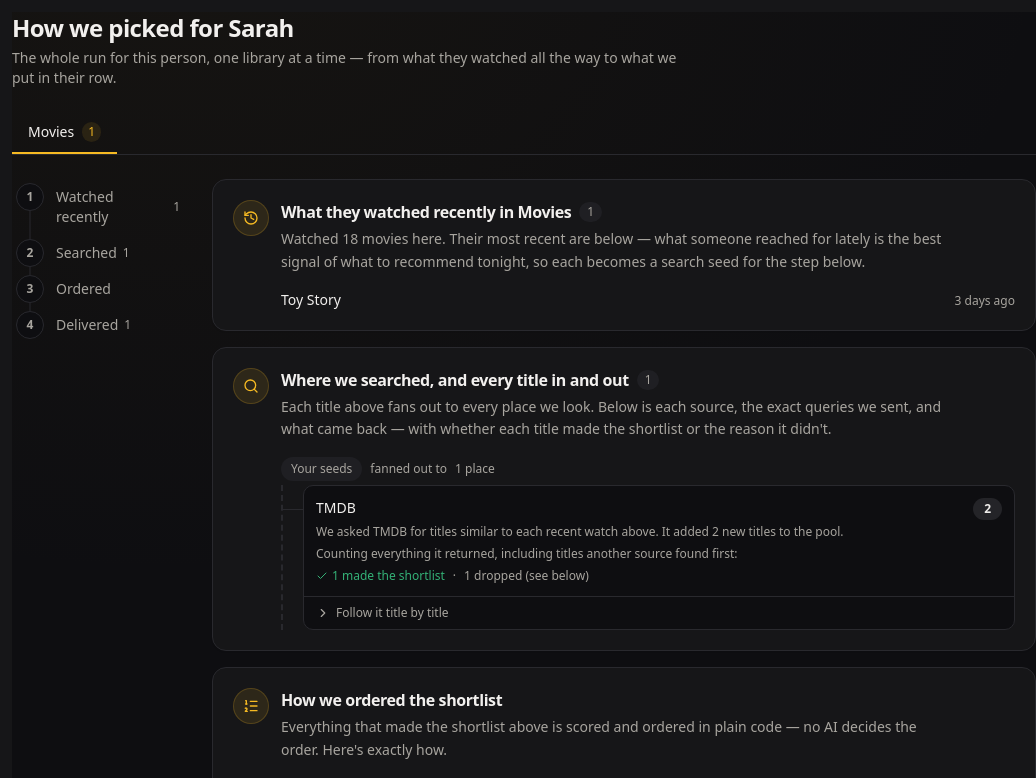
TraceView › shows each returned title's fate — kept, or the plain reason it was dropped
Click the heading "Follow it title by title" at (382, 612), box x1=316 y1=604 x2=449 y2=621
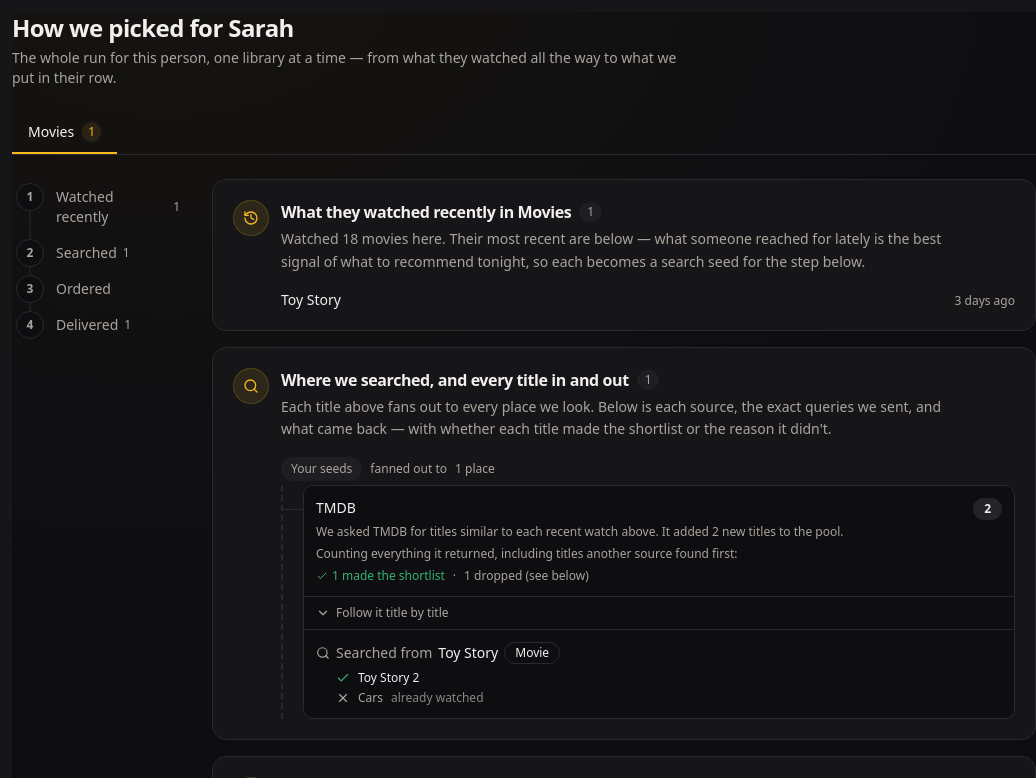
Now the text "Cars" is shown, box x1=358 y1=690 x2=383 y2=706
Now the text "already watched" is shown, box x1=391 y1=690 x2=484 y2=706
